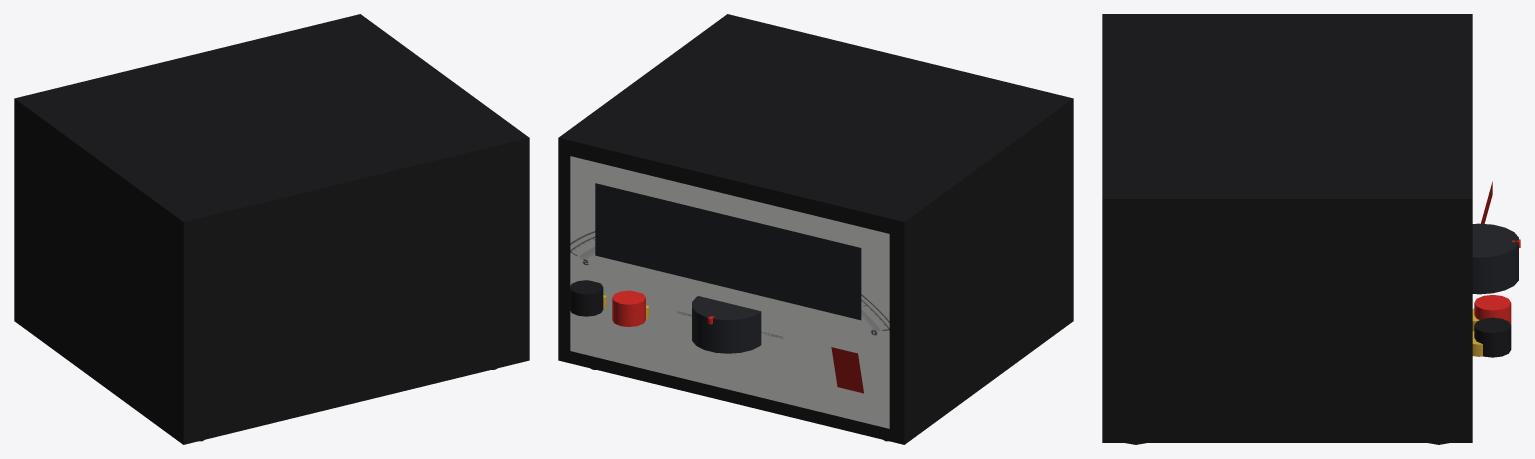
File: PowerSupply_Lab_Pro.obj
The picture shows the model from 3 angles, left to right: view 1: azimuth 30°, elevation 25°; view 2: azimuth 150°, elevation 25°; view 3: azimuth 270°, elevation 25°; orthographic projection. The views are drawn at different scales.
Bounding box in the file's own units: 0.13 × 0.083 × 0.1243.
